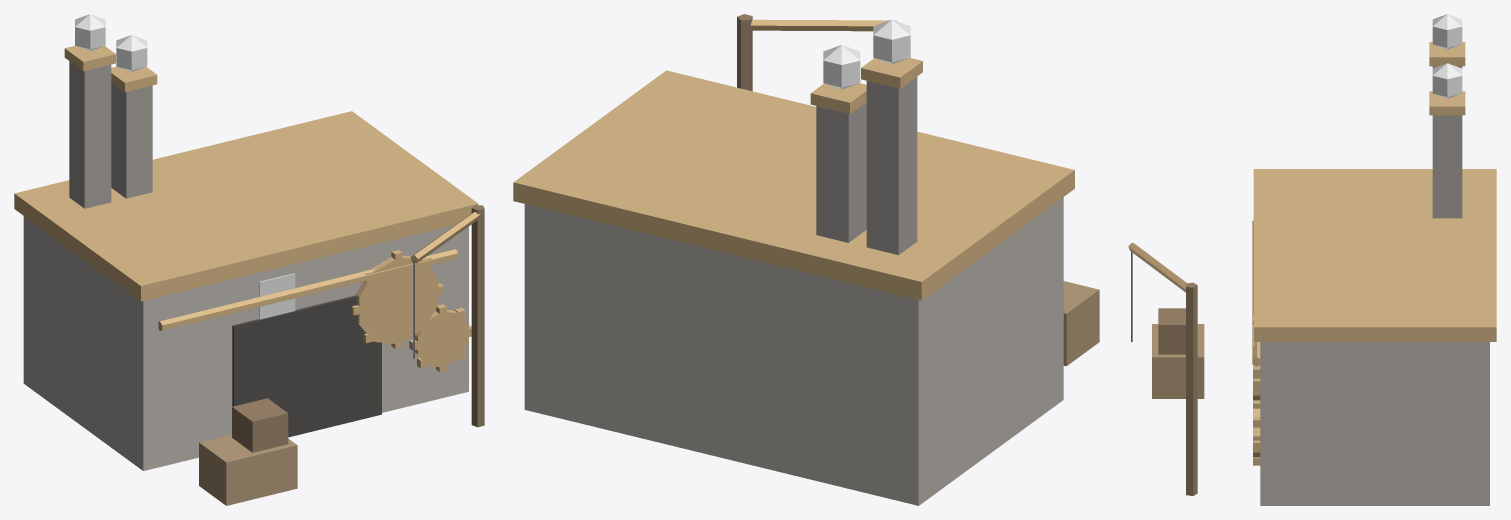
3 views of the same model, side by side, from view 1: azimuth 30°, elevation 25°; view 2: azimuth 150°, elevation 25°; view 3: azimuth 270°, elevation 25° (orthographic). The views are drawn at different scales.
Parts seen in each view (by area): view 1: body; view 2: body; view 3: body.
Boxes of the visible parts, <box> form: body: <box>14,14,484,505</box>; body: <box>513,14,1099,505</box>; body: <box>1128,14,1496,505</box>.
Bounding box in the file's own units: 11.4 × 12.1 × 11.22.
